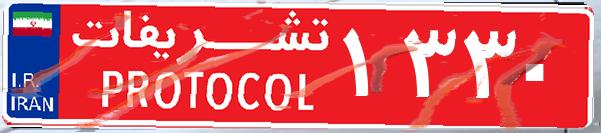0: (520, 20, 580, 115)
1: (340, 20, 400, 115)
3: (400, 20, 460, 115), (460, 20, 520, 115)
تشریفات: (60, 8, 340, 125)
